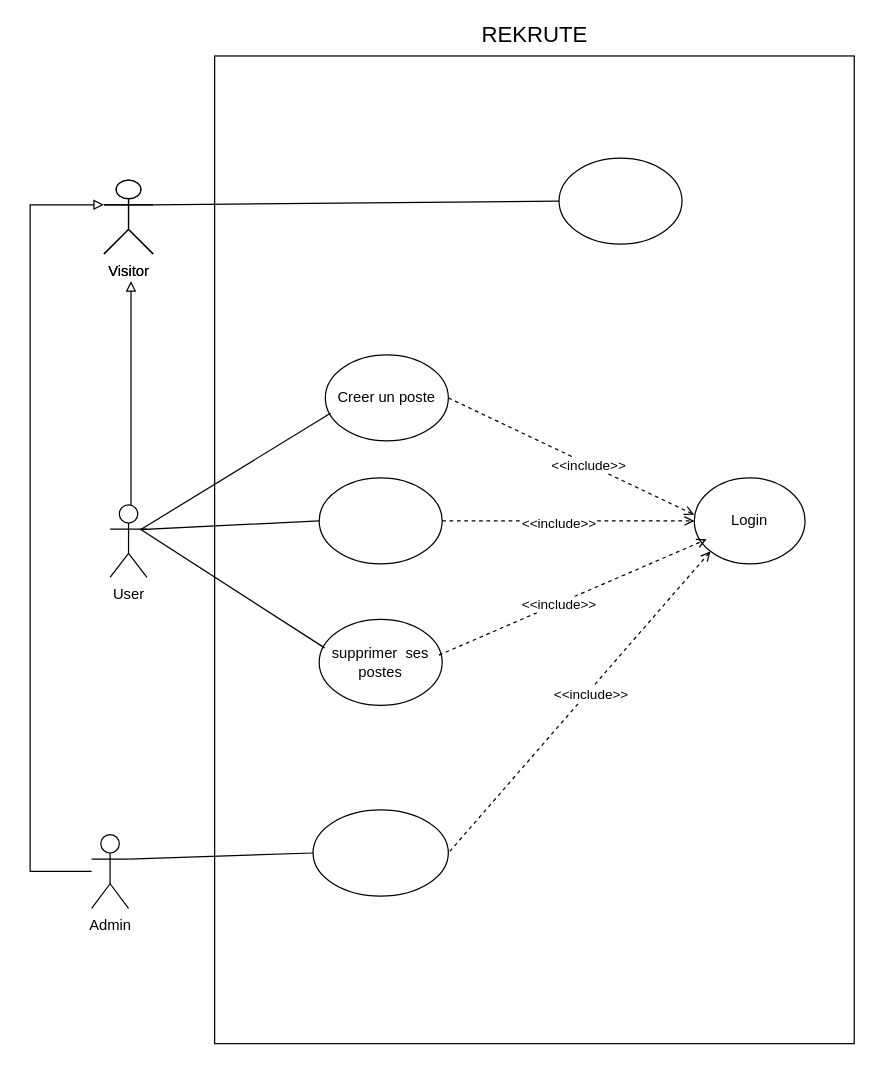
Some shapes in this 876 by 1065 pixel diagram are drawn without their labels. The shapes that lost their labels are listed below. From the top down, each one's centre as x and y in pixels, then its label:
(x=620, y=200): Voir les postes
(x=380, y=520): Moidfier sesposte
(x=380, y=852): Gerer les utilisateurs
